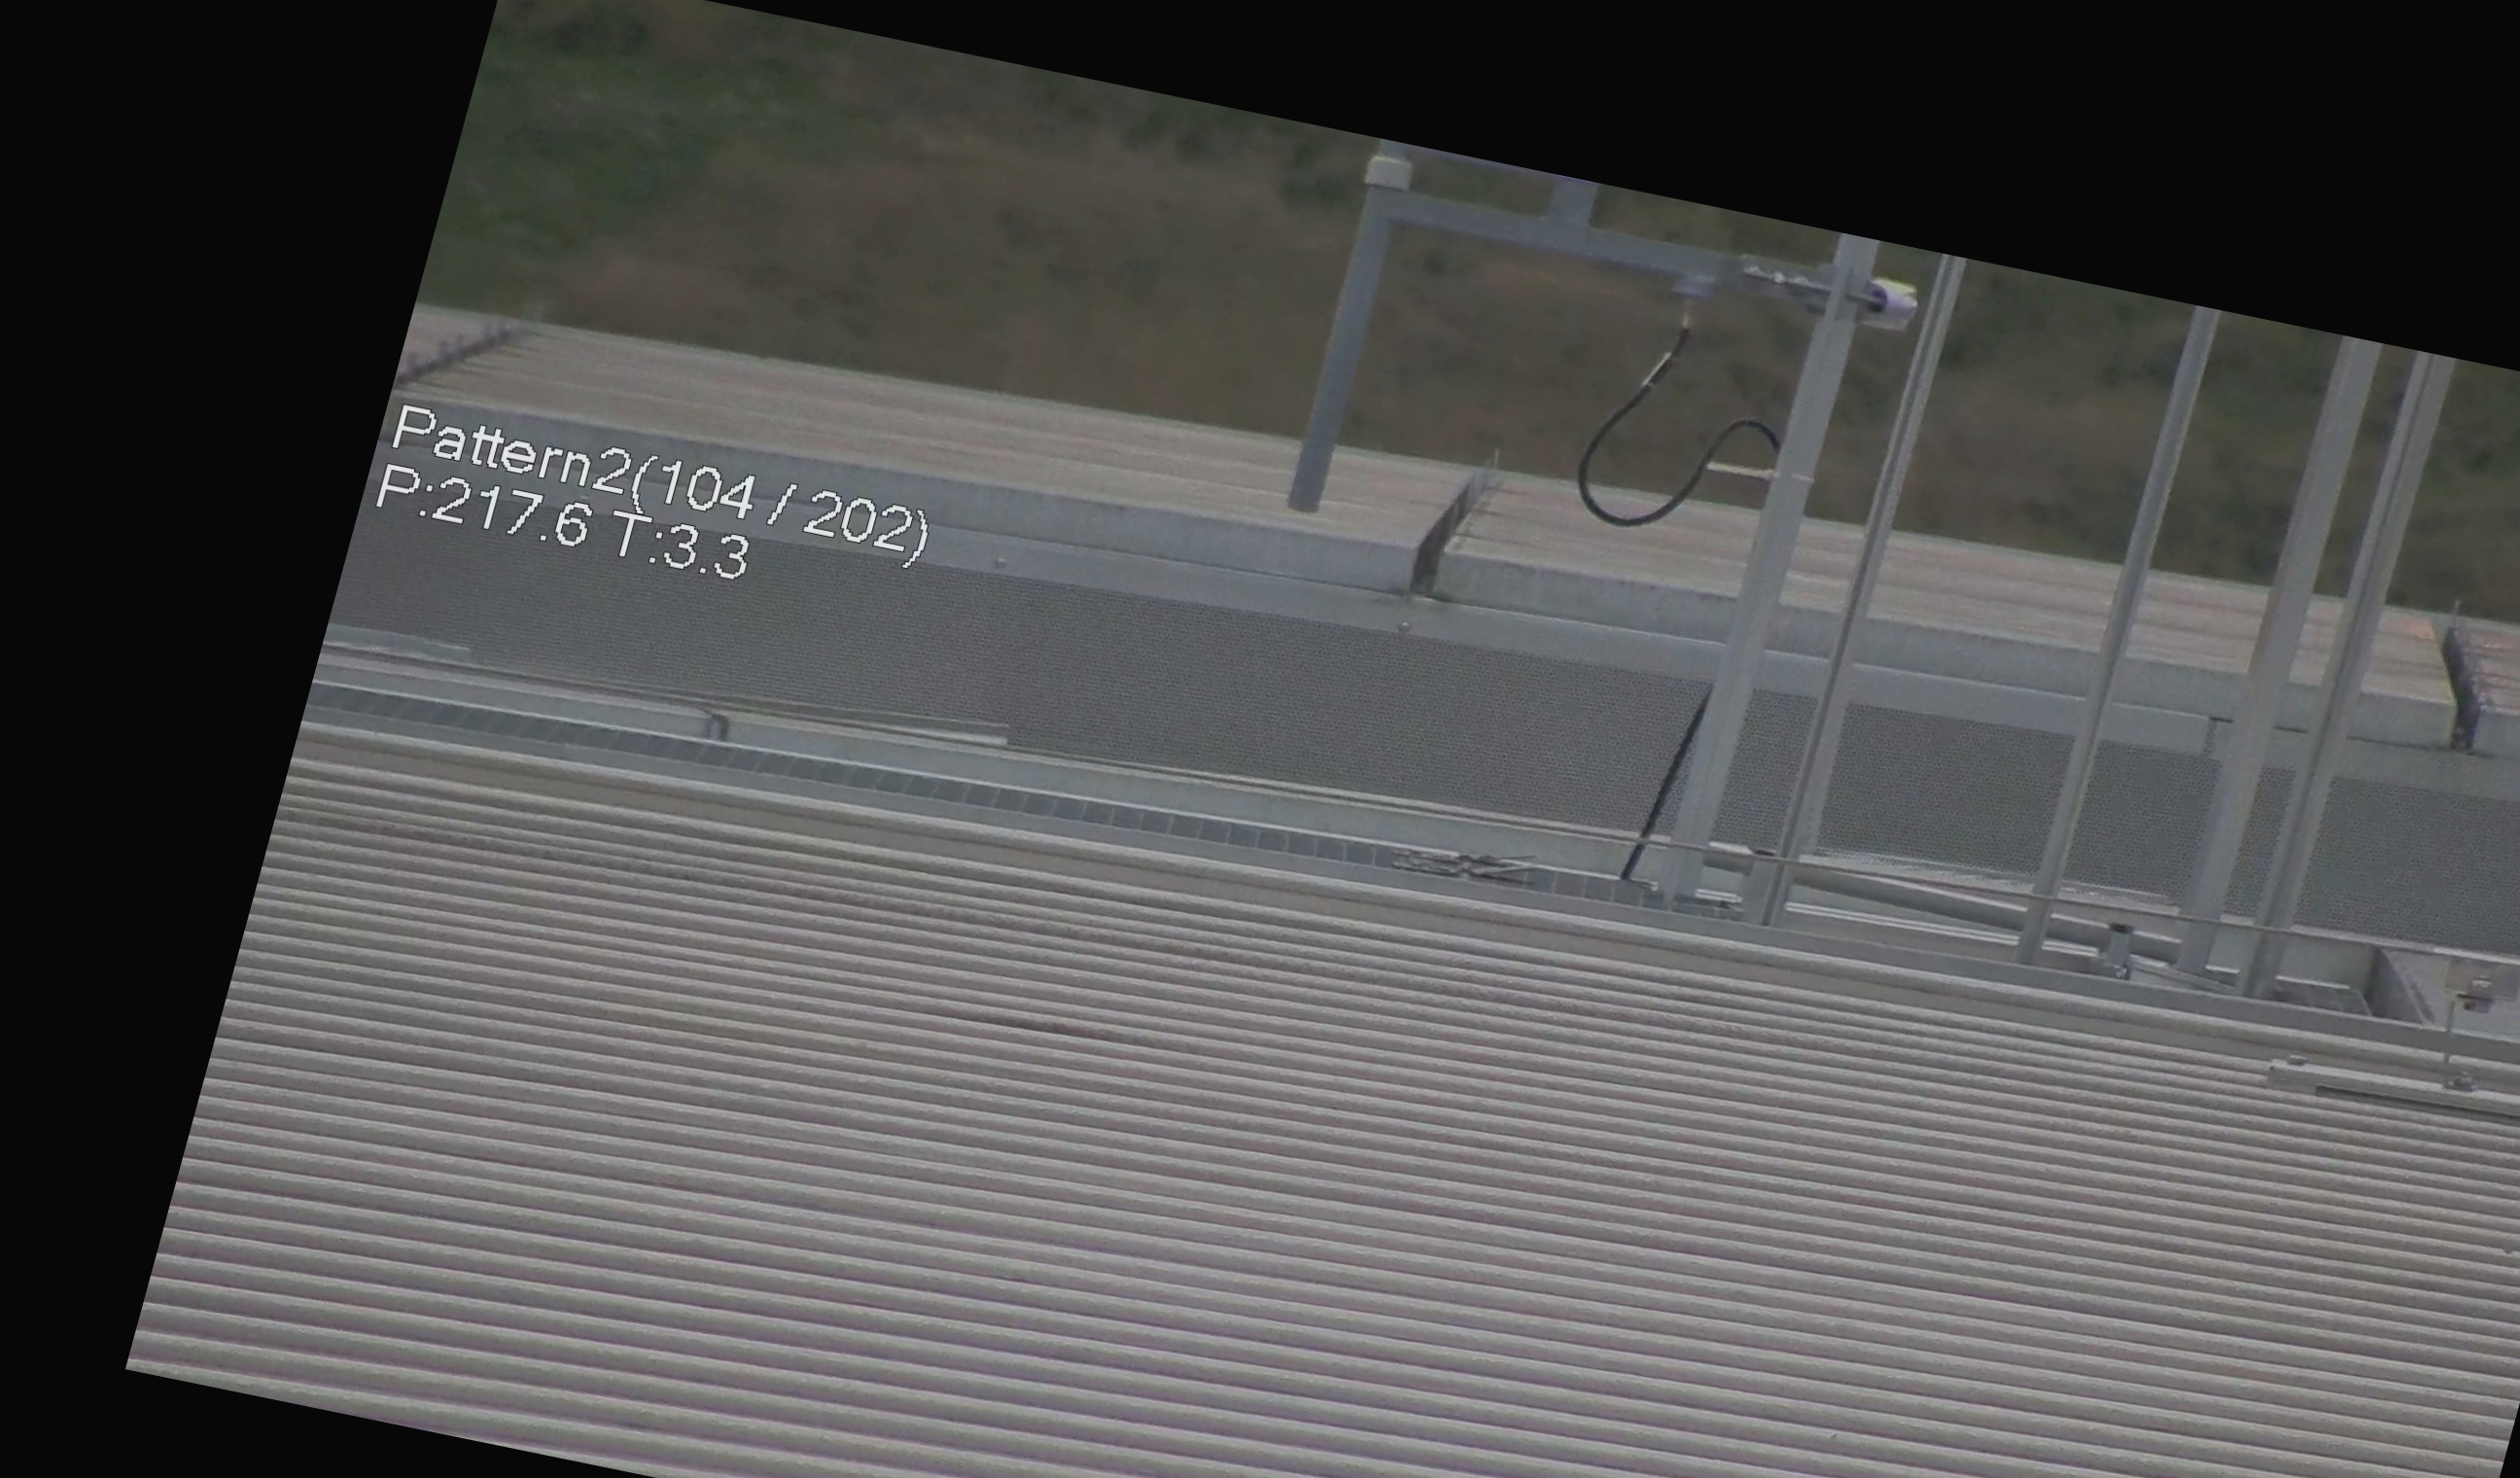Other: (2407, 600, 2520, 762)
